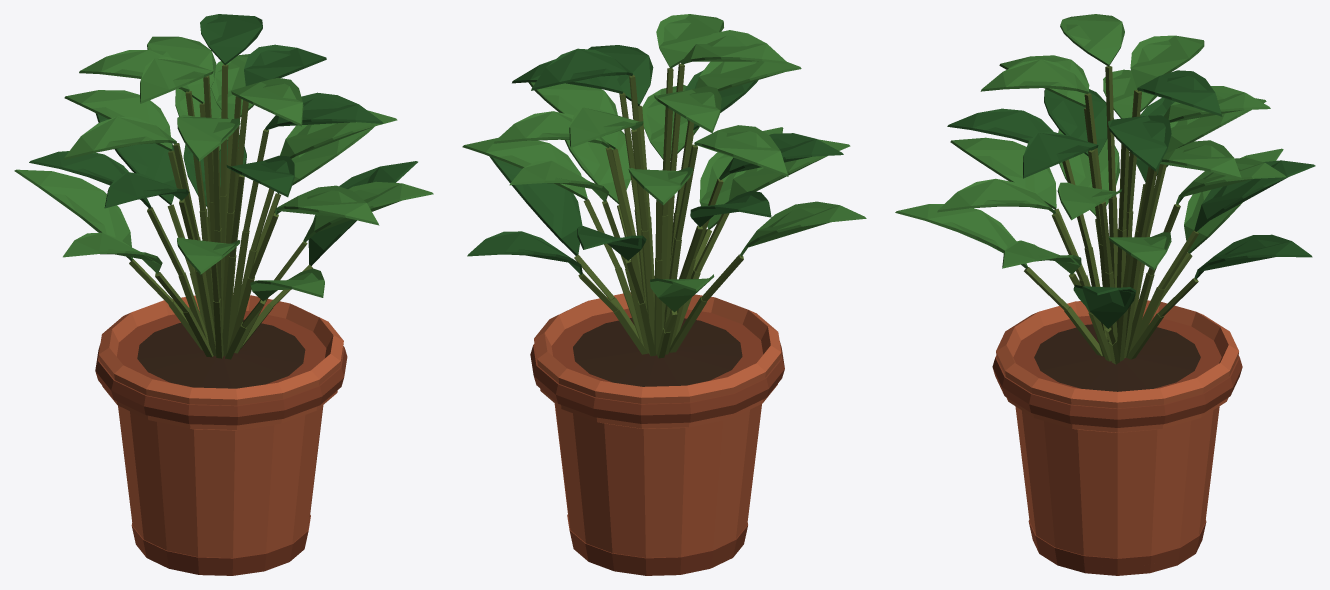
File: potted_plant.obj
3 views of the same model, side by side, from view 1: azimuth 30°, elevation 25°; view 2: azimuth 150°, elevation 25°; view 3: azimuth 270°, elevation 25° (orthographic). The views are drawn at different scales.
Visible parts, largest first — view 1: lathe, lathe.002, lathe.003, prism.001, lathe.001, prism.017, prism.014, prism.010, prism.024, prism.021, prism.018, prism.023 (+29 smaller); view 2: lathe, lathe.002, lathe.003, lathe.001, prism, prism.017, prism.004, prism.025, prism.024, prism.008, prism.023, prism.020 (+27 smaller); view 3: lathe, lathe.002, lathe.003, lathe.001, prism.007, prism.002, prism.022, prism.021, prism.010, prism.025, prism.006, prism.023 (+25 smaller).
Boxes of the visible parts, bbox=[...] form: lathe: bbox=[98, 295, 343, 557]; lathe.002: bbox=[95, 310, 347, 425]; lathe.003: bbox=[137, 319, 305, 388]; prism.001: bbox=[14, 169, 133, 260]; lathe.001: bbox=[131, 515, 310, 575]; prism.017: bbox=[63, 116, 176, 160]; prism.014: bbox=[64, 90, 172, 151]; prism.010: bbox=[275, 185, 379, 225]; prism.024: bbox=[200, 14, 262, 65]; prism.021: bbox=[244, 44, 326, 85]; prism.018: bbox=[265, 92, 383, 130]; prism.023: bbox=[231, 77, 303, 126]; lathe: bbox=[534, 292, 781, 557]; lathe.002: bbox=[530, 308, 784, 423]; lathe.003: bbox=[573, 318, 742, 386]; lathe.001: bbox=[567, 514, 747, 575]; prism: bbox=[489, 156, 582, 255]; prism.017: bbox=[694, 125, 788, 176]; prism.004: bbox=[740, 201, 866, 256]; prism.025: bbox=[681, 30, 787, 64]; prism.024: bbox=[531, 48, 632, 90]; prism.008: bbox=[462, 137, 587, 200]; prism.023: bbox=[656, 14, 723, 68]; prism.020: bbox=[696, 61, 801, 91]; lathe: bbox=[996, 300, 1238, 558]; lathe.002: bbox=[992, 315, 1242, 427]; lathe.003: bbox=[1034, 324, 1200, 391]; lathe.001: bbox=[1028, 520, 1206, 575]; prism.007: bbox=[950, 137, 1056, 209]; prism.002: bbox=[895, 204, 1027, 268]; prism.022: bbox=[1130, 35, 1204, 90]; prism.021: bbox=[1108, 115, 1171, 171]; prism.010: bbox=[937, 178, 1055, 213]; prism.025: bbox=[1060, 14, 1124, 66]; prism.006: bbox=[1194, 160, 1315, 231]; prism.023: bbox=[980, 59, 1088, 93].
Size of the model in its own units: 0.6044 by 0.7737 by 0.6056.
